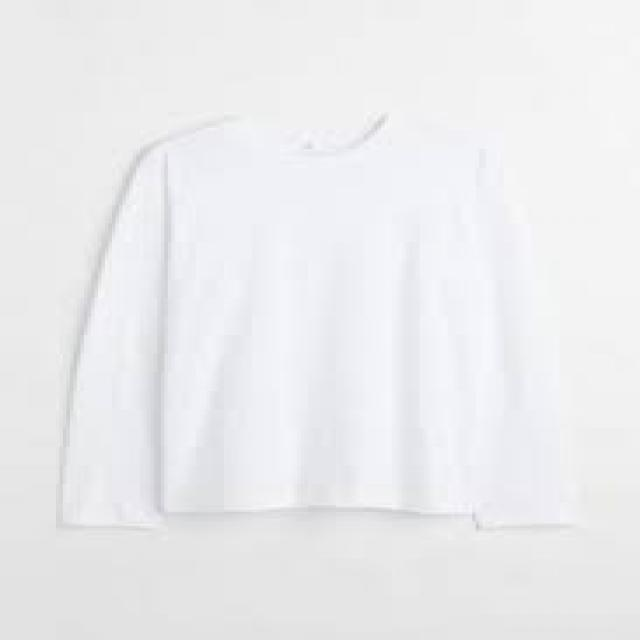plain: (75, 116, 577, 526)
